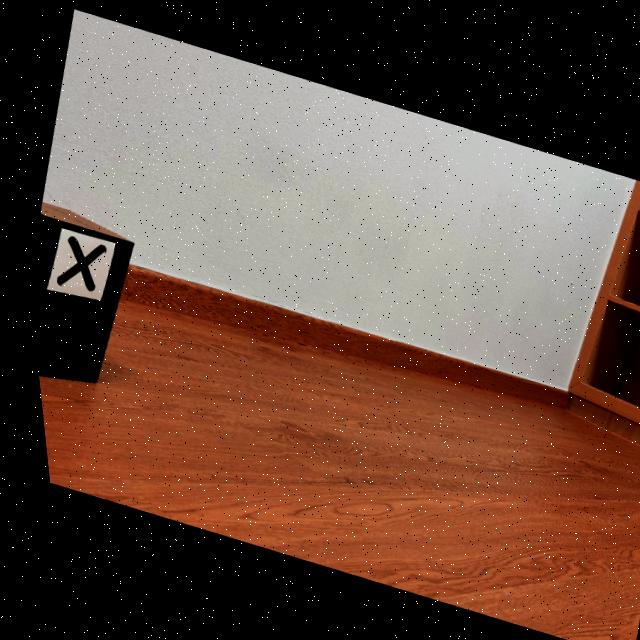X: (50, 237, 99, 291)
